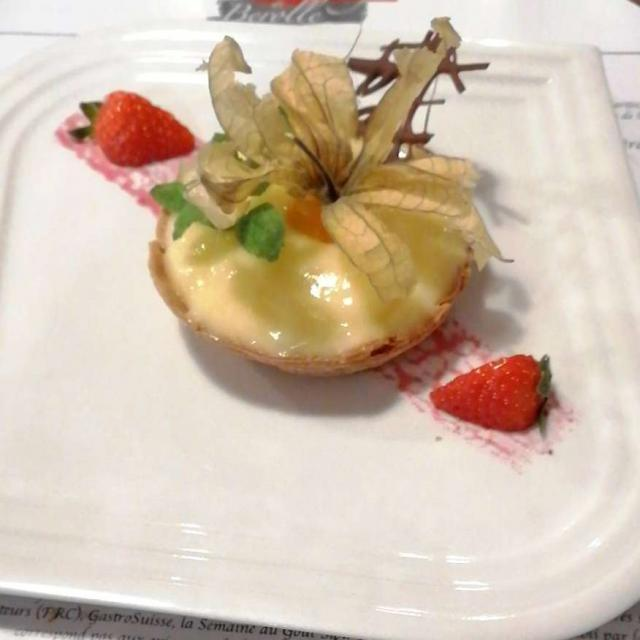pie: (148, 173, 476, 378)
strawberries: (65, 94, 559, 442)
